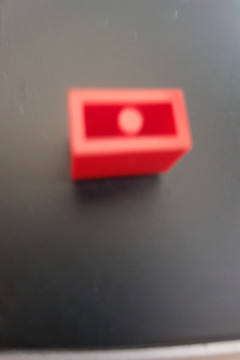1x2 red: (68, 89, 194, 181)
